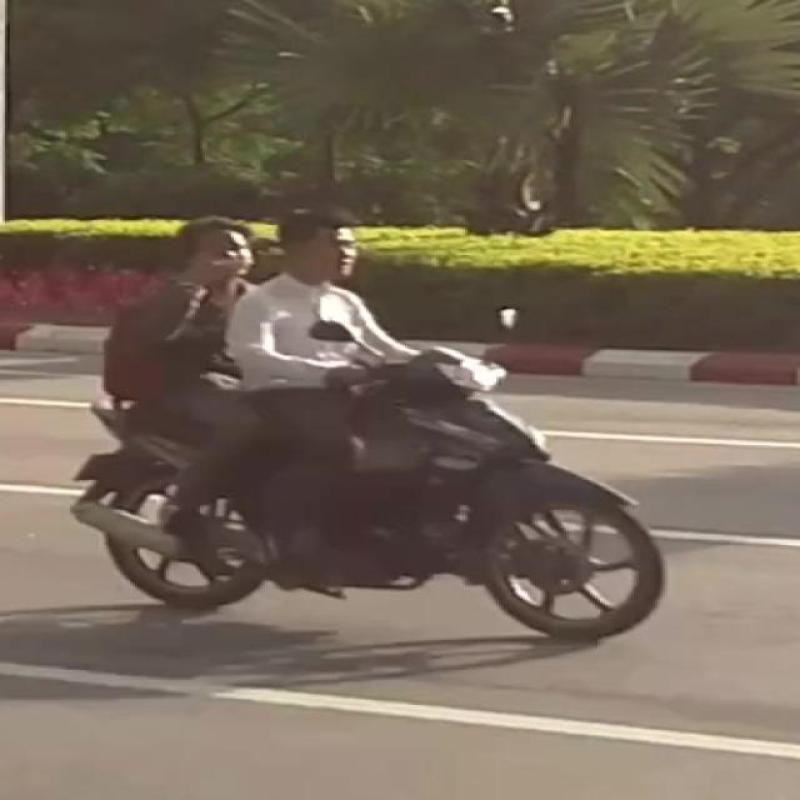nohelmet: (159, 202, 263, 292), (285, 202, 376, 297)
